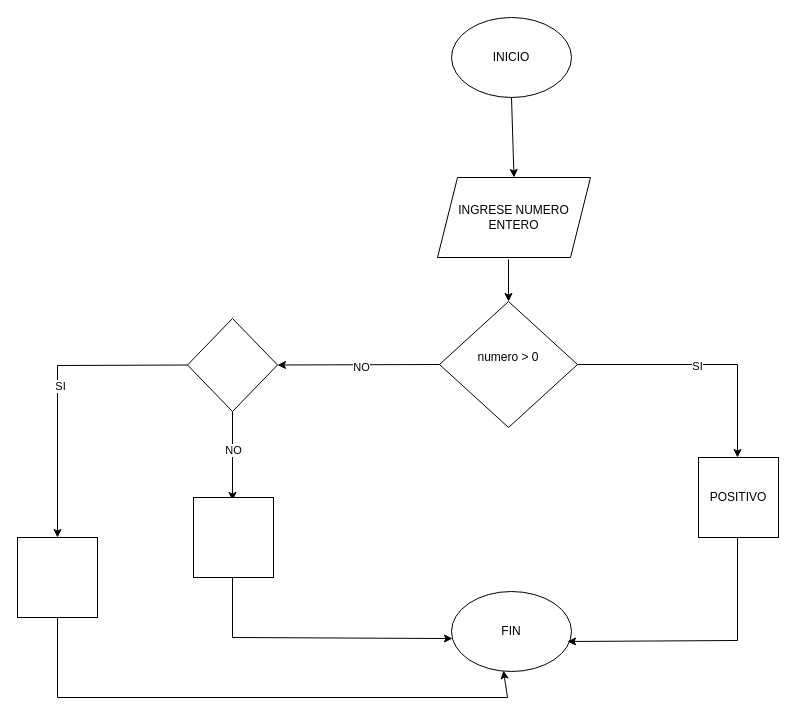
Some shapes in this 796 by 723 pixel diagram are drawn without their labels. The centre of each missing label's shape, as x and y in pixels:
EL NUMERO ES 0: [57,577]
NEGATIVO: [233,537]
NUMERO ES 0?: [232,365]
